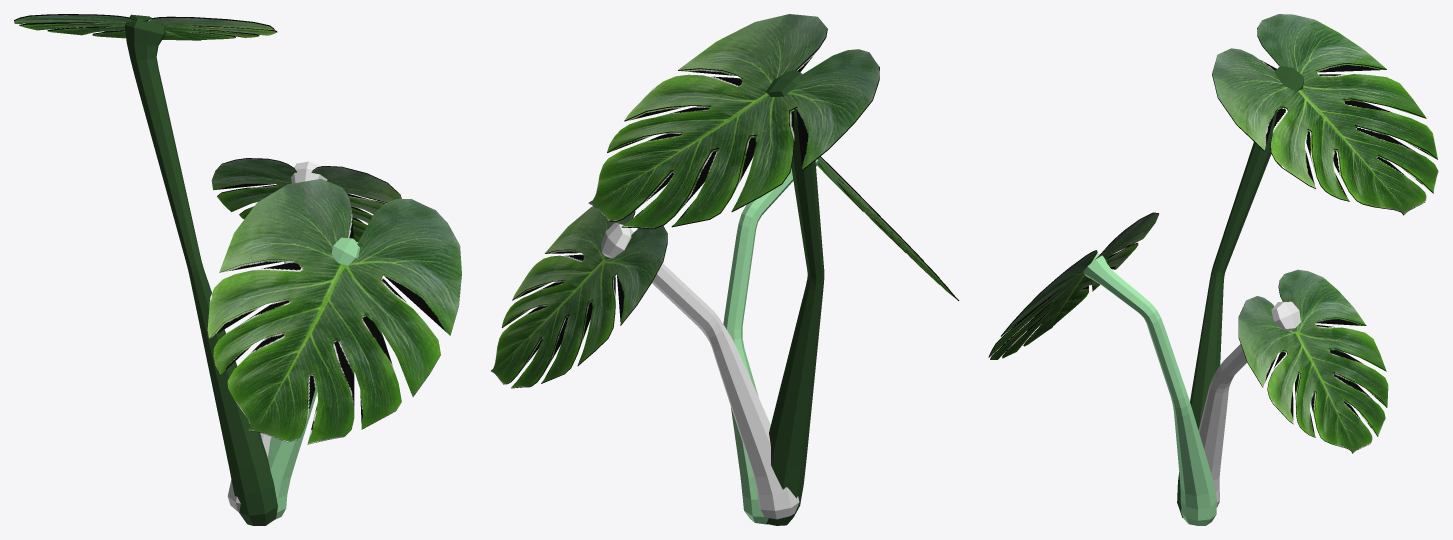
Rendered from LeafPlant.fbx.
The picture shows the model from 3 angles, left to right: view 1: azimuth 30°, elevation 25°; view 2: azimuth 150°, elevation 25°; view 3: azimuth 270°, elevation 25°; orthographic projection. The views are drawn at different scales.
Parts seen in each view (by area): view 1: plant2leaf1, plant 1, plant3leaf 1, plant1leaf1, plant2, plant3; view 2: plant1leaf1, plant3leaf 1, plant 1, plant3, plant2, plant2leaf1; view 3: plant1leaf1, plant3leaf 1, plant2, plant 1, plant2leaf1, plant3.
Boxes of the visible parts, x1=… form: plant2leaf1: x1=207, y1=179, x2=461, y2=444; plant 1: x1=124, y1=14, x2=277, y2=525; plant3leaf 1: x1=211, y1=158, x2=401, y2=242; plant1leaf1: x1=14, y1=14, x2=277, y2=40; plant2: x1=268, y1=237, x2=359, y2=519; plant3: x1=227, y1=161, x2=327, y2=511; plant1leaf1: x1=588, y1=14, x2=879, y2=229; plant3leaf 1: x1=491, y1=206, x2=667, y2=388; plant 1: x1=765, y1=70, x2=824, y2=525; plant3: x1=601, y1=223, x2=799, y2=519; plant2: x1=723, y1=159, x2=819, y2=524; plant2leaf1: x1=817, y1=156, x2=959, y2=301; plant1leaf1: x1=1212, y1=14, x2=1438, y2=215; plant3leaf 1: x1=1238, y1=269, x2=1388, y2=453; plant2: x1=1083, y1=253, x2=1216, y2=525; plant 1: x1=1177, y1=66, x2=1303, y2=517; plant2leaf1: x1=988, y1=212, x2=1158, y2=359; plant3: x1=1198, y1=301, x2=1300, y2=506.
Size of the model in its own units: 177 by 242 by 220.
